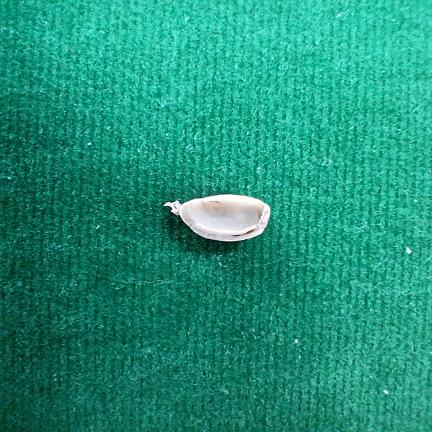shell: (164, 194, 270, 241)
